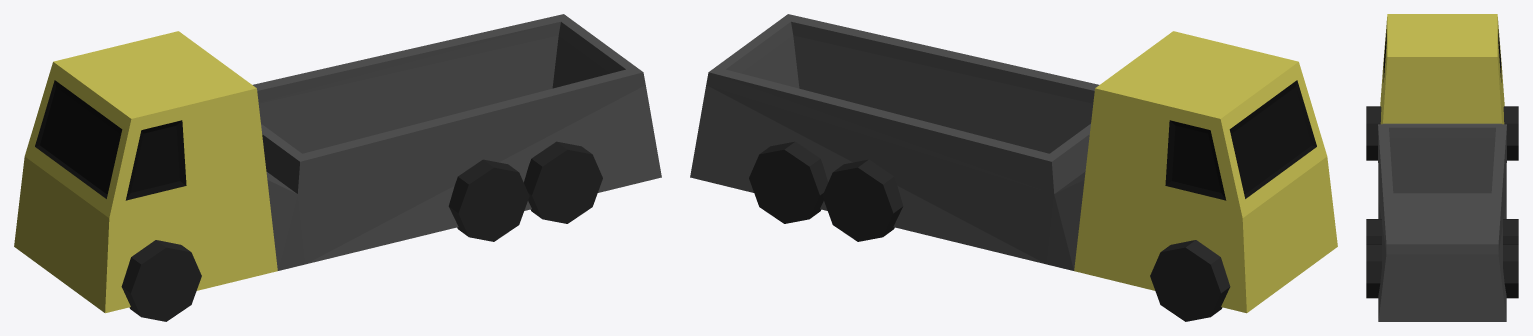
The model's file is cars_03.dae.
3 views of the same model, side by side, from view 1: azimuth 30°, elevation 25°; view 2: azimuth 150°, elevation 25°; view 3: azimuth 270°, elevation 25° (orthographic). The views are drawn at different scales.
Visible parts, largest first — view 1: Cube.005, Circle.002; view 2: Cube.005, Circle.002; view 3: Cube.005, Circle.002.
Part boxes in pixels (x1,y1,x2,y2): Cube.005: [14, 14, 661, 313]; Circle.002: [121, 141, 602, 321]; Cube.005: [690, 14, 1337, 313]; Circle.002: [749, 141, 1230, 321]; Cube.005: [1378, 14, 1506, 321]; Circle.002: [1366, 106, 1518, 298].
Size of the model in its own units: 2.82 by 0.9483 by 0.9548.
